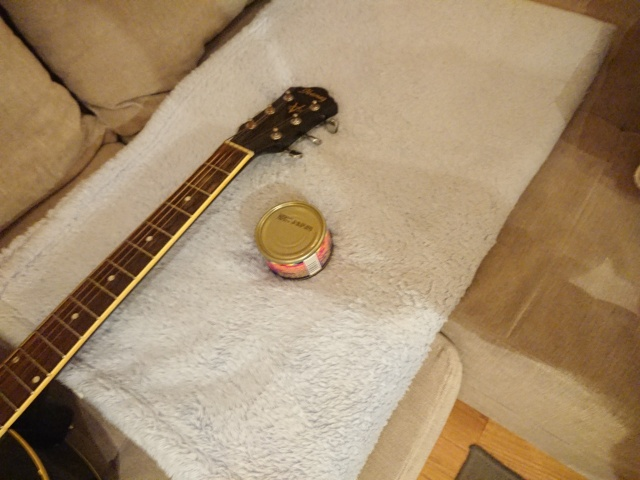Giana Tuna Salad Mexico 185g: (251, 198, 336, 283)
